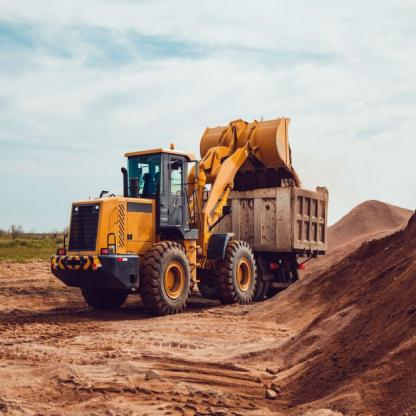bull_dozer/loader/grader: (53, 92, 300, 327)
